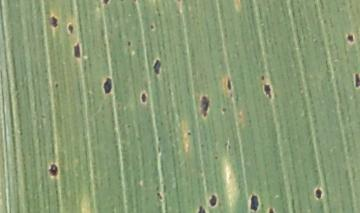tarspot: (199, 95, 210, 116), (102, 75, 112, 94), (249, 194, 259, 213), (48, 162, 59, 177), (72, 41, 81, 58), (262, 82, 271, 99), (152, 58, 161, 74), (208, 193, 218, 207), (49, 15, 59, 27), (139, 90, 147, 104), (353, 72, 360, 87), (225, 76, 232, 90), (66, 22, 74, 34), (315, 187, 322, 200), (347, 33, 355, 43), (155, 188, 162, 199), (212, 153, 220, 161), (198, 205, 206, 213), (155, 134, 163, 142), (52, 81, 59, 89), (267, 207, 276, 213), (220, 106, 227, 113), (259, 74, 266, 81), (126, 40, 132, 47), (148, 23, 155, 29), (186, 130, 192, 137), (101, 1, 110, 5)
